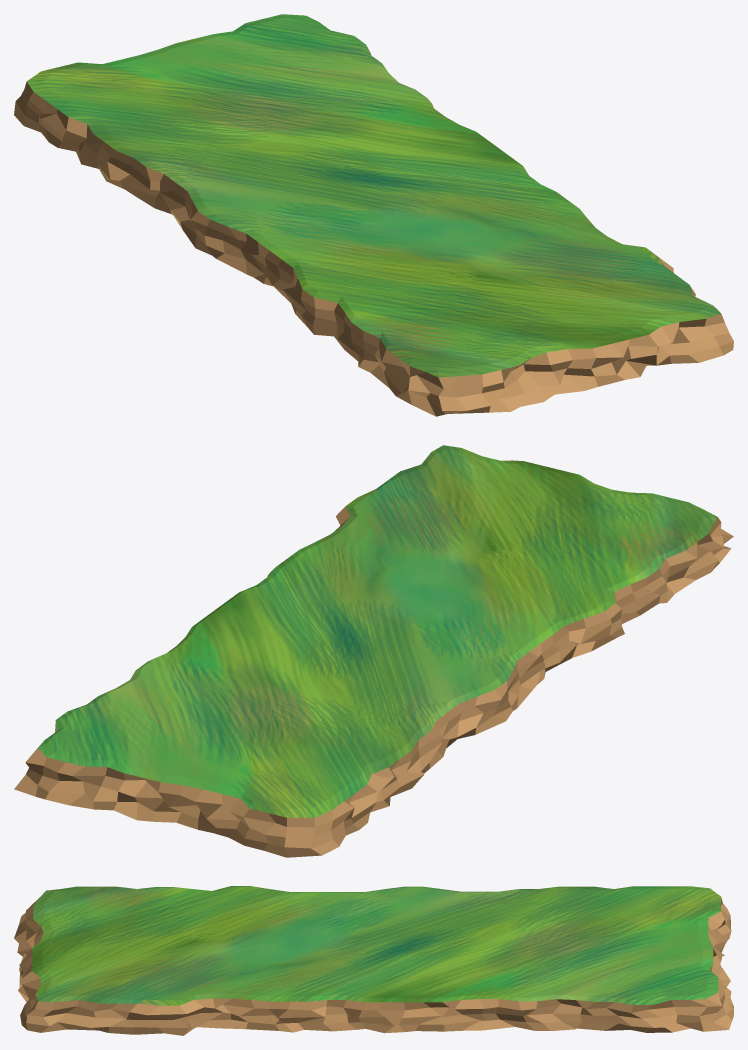
The model's file is Tebing bawah kiri.fbx.
The picture shows the model from 3 angles, top to bottom: view 1: azimuth 30°, elevation 25°; view 2: azimuth 150°, elevation 25°; view 3: azimuth 270°, elevation 25°; orthographic projection. The views are drawn at different scales.
Visible parts, largest first — view 1: Tebing Bawah 1; view 2: Tebing Bawah 1; view 3: Tebing Bawah 1.
Part boxes in pixels (box(x1,y1,x2,y2)): Tebing Bawah 1: box(14, 14, 733, 416); Tebing Bawah 1: box(14, 445, 733, 857); Tebing Bawah 1: box(14, 886, 733, 1035).
Size of the model in its own units: 2171 by 239 by 5224.
